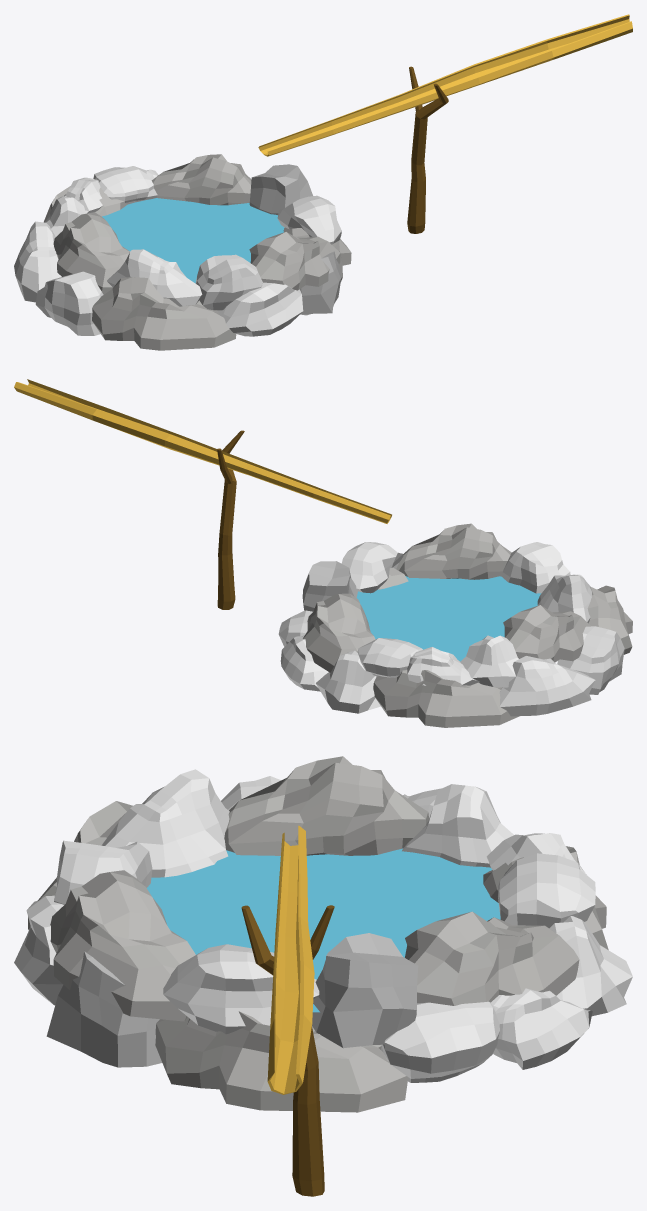
The model's file is Wasserleitung_Holz_und_Brunnen_rdy.fbx.
The picture shows the model from 3 angles, top to bottom: view 1: azimuth 30°, elevation 25°; view 2: azimuth 150°, elevation 25°; view 3: azimuth 270°, elevation 25°; orthographic projection. The views are drawn at different scales.
Visible parts, largest first — view 1: Water, Rohr, Rock_02.004, Rock_02, Rock_02.002, Rock_02.001, Rock_04.001, Rock_05.001, Rock_05, Rock_08, Rock_08.001, Astgabel (+8 smaller); view 2: Water, Rohr, Rock_02.005, Rock_02.001, Rock_08.001, Rock_02.002, Rock_02, Rock_07.001, Rock_05.001, Astgabel, Rock_05, Rock_07 (+8 smaller); view 3: Water, Rock_02.002, Rock_02.003, Rock_02.001, Rock_02, Rock_01, Rohr, Rock_08, Rock_01.001, Rock_04, Rock_03.001, Rock_03 (+10 smaller).
Part boxes in pixels (box(x1,y1,x2,y2)): Water: box(102, 198, 284, 283); Rohr: box(258, 14, 632, 156); Rock_02.004: box(92, 277, 236, 350); Rock_02: box(151, 154, 251, 205); Rock_02.002: box(53, 212, 129, 294); Rock_02.001: box(249, 232, 340, 290); Rock_04.001: box(217, 282, 303, 336); Rock_05.001: box(35, 271, 103, 335); Rock_05: box(195, 254, 262, 310); Rock_08: box(107, 249, 202, 306); Rock_08.001: box(14, 221, 61, 302); Astgabel: box(407, 66, 448, 233); Water: box(356, 576, 541, 661); Rohr: box(14, 379, 391, 523); Rock_02.005: box(373, 670, 519, 727); Rock_02.001: box(396, 523, 511, 579); Rock_08.001: box(499, 656, 595, 716); Rock_02.002: box(503, 605, 590, 662); Rock_02: box(303, 593, 375, 672); Rock_07.001: box(316, 650, 380, 713); Rock_05.001: box(557, 626, 624, 694); Astgabel: box(217, 430, 244, 609); Rock_05: box(502, 542, 570, 593); Rock_07: box(460, 635, 518, 687); Water: box(147, 848, 500, 1012); Rock_02.002: box(224, 756, 428, 855); Rock_02.003: box(155, 1011, 408, 1112); Rock_02.001: box(50, 870, 195, 1021); Rock_02: box(405, 911, 579, 1005); Rock_01: box(312, 933, 418, 1048); Rohr: box(267, 825, 314, 1094); Rock_08: box(101, 769, 229, 877); Rock_01.001: box(46, 951, 162, 1067); Rock_04: box(163, 944, 319, 1034); Rock_03.001: box(380, 1001, 499, 1082); Rock_03: box(498, 853, 595, 927).
Size of the model in its own units: 2949 by 830 by 1501.
